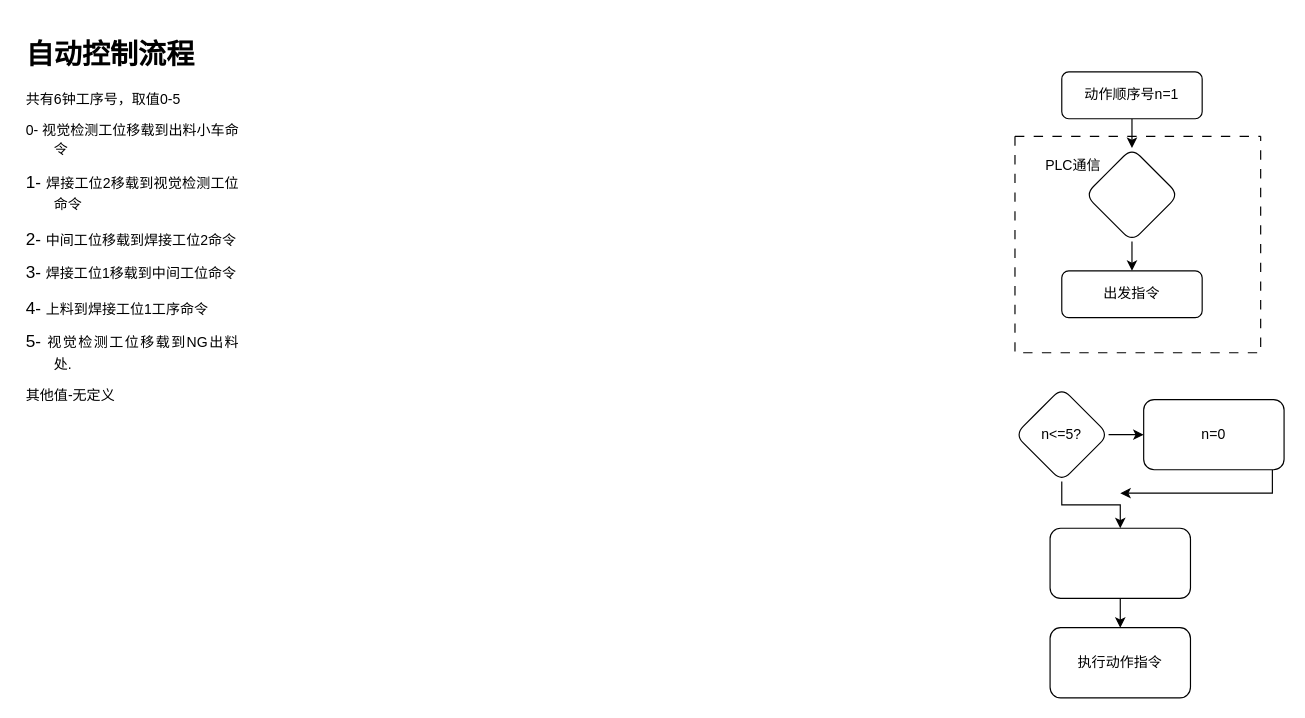
Some shapes in this 1305 by 718 pixel diagram are drawn without their labels. Each missing label, with the centre of its shape:
等待流程指令？: the point at 1131,194
读取模板工序n对应的运动参数并赋值: the point at 1119,562
